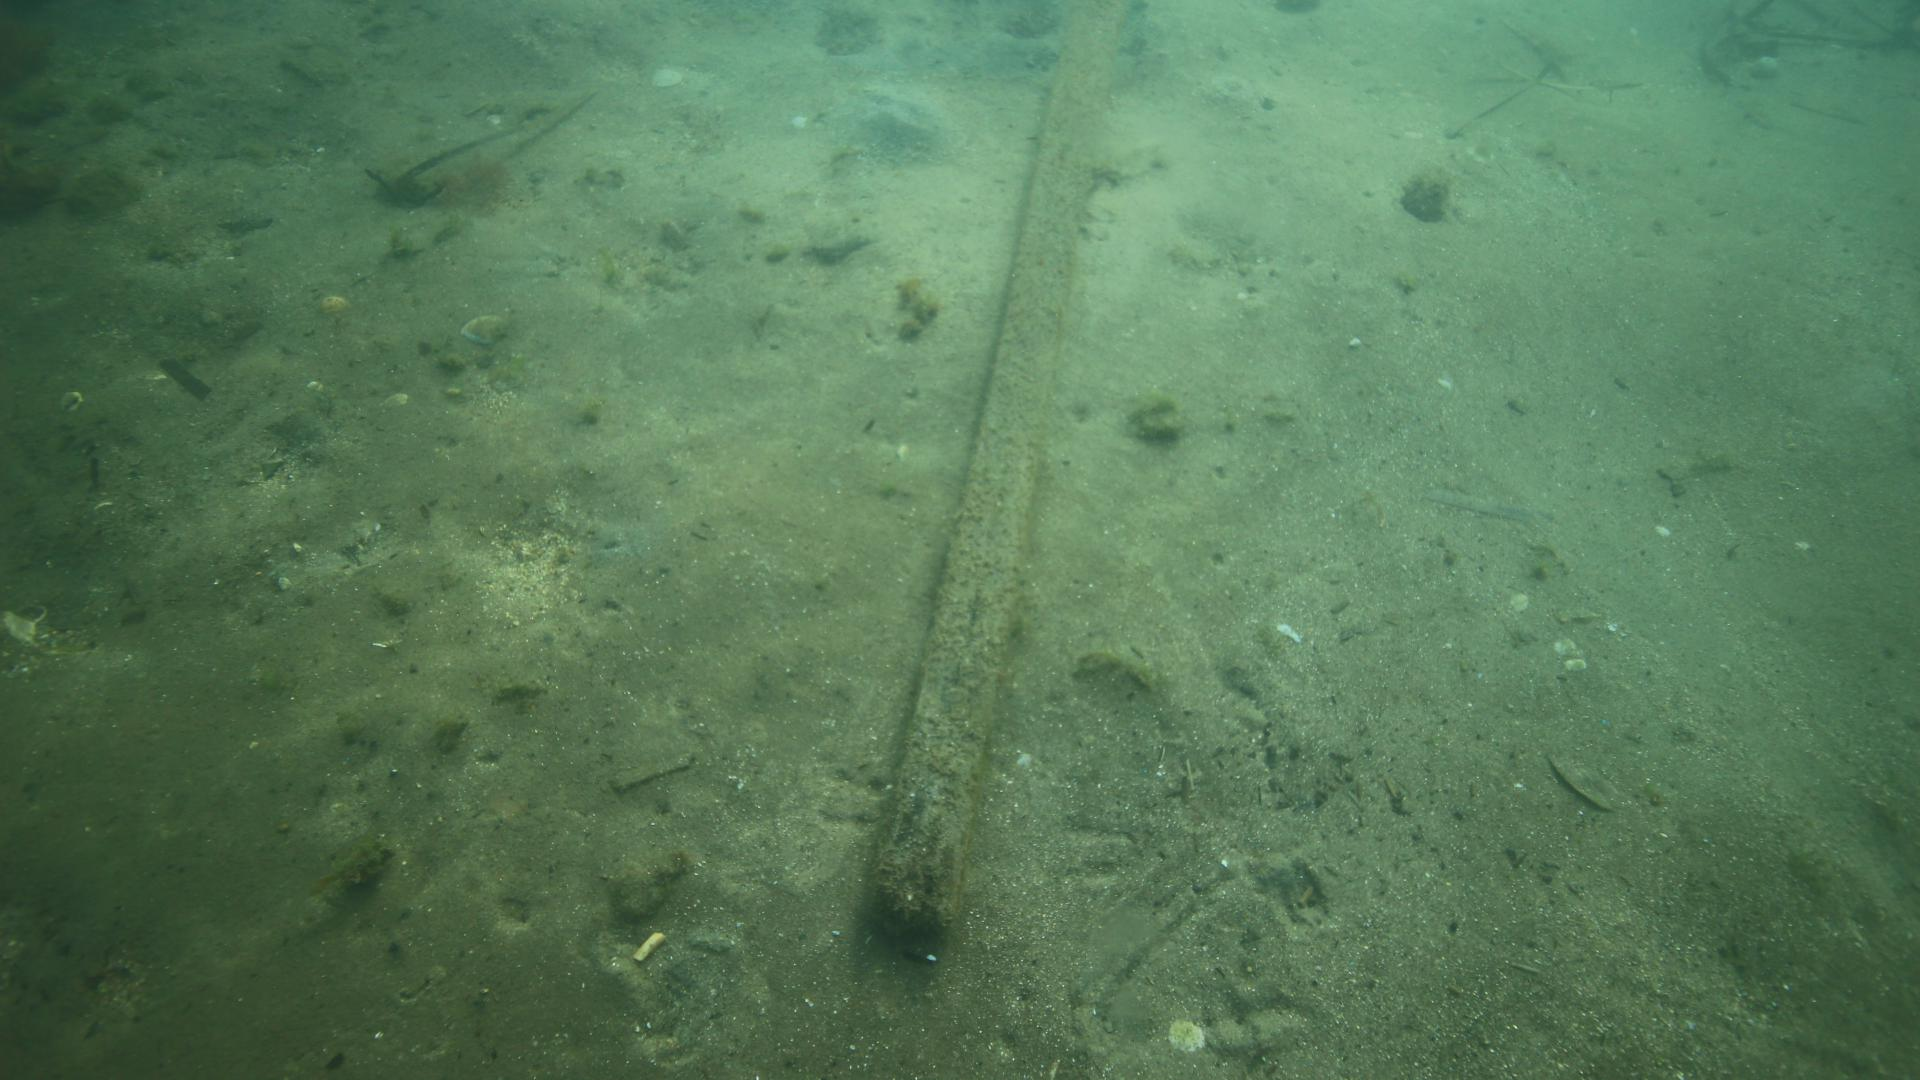wood: (865, 0, 1120, 953)
